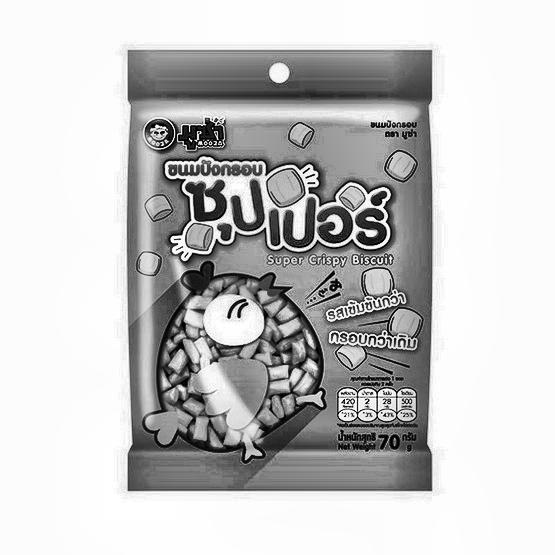snackbag: (96, 28, 454, 514)
